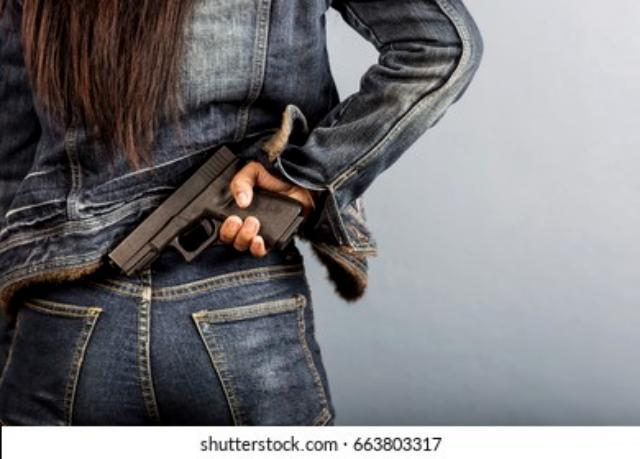pistol: (92, 134, 323, 286)
